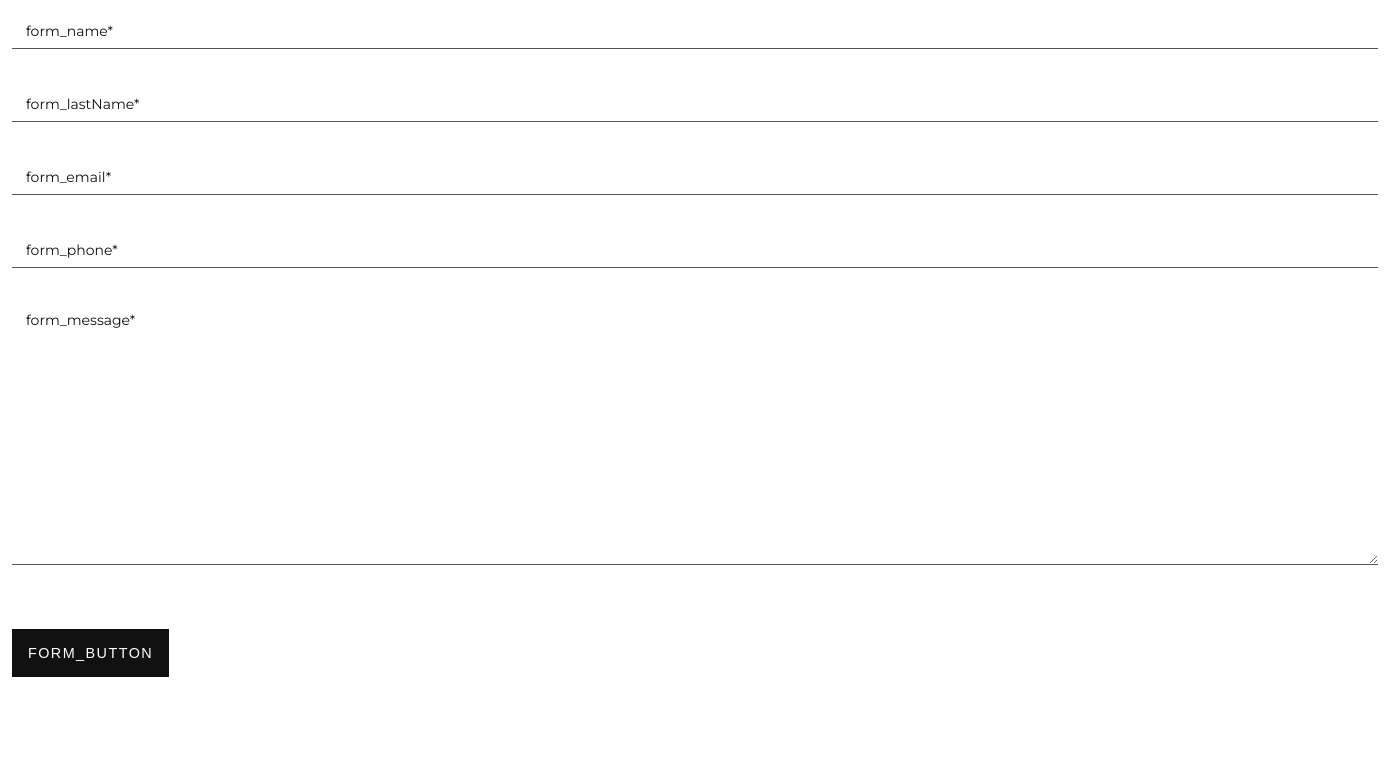
Test: ContactForm › shows error if API returns success false
Type "John" into the field labelled "form_name*" at (695, 30), box [12, 12, 1378, 49]
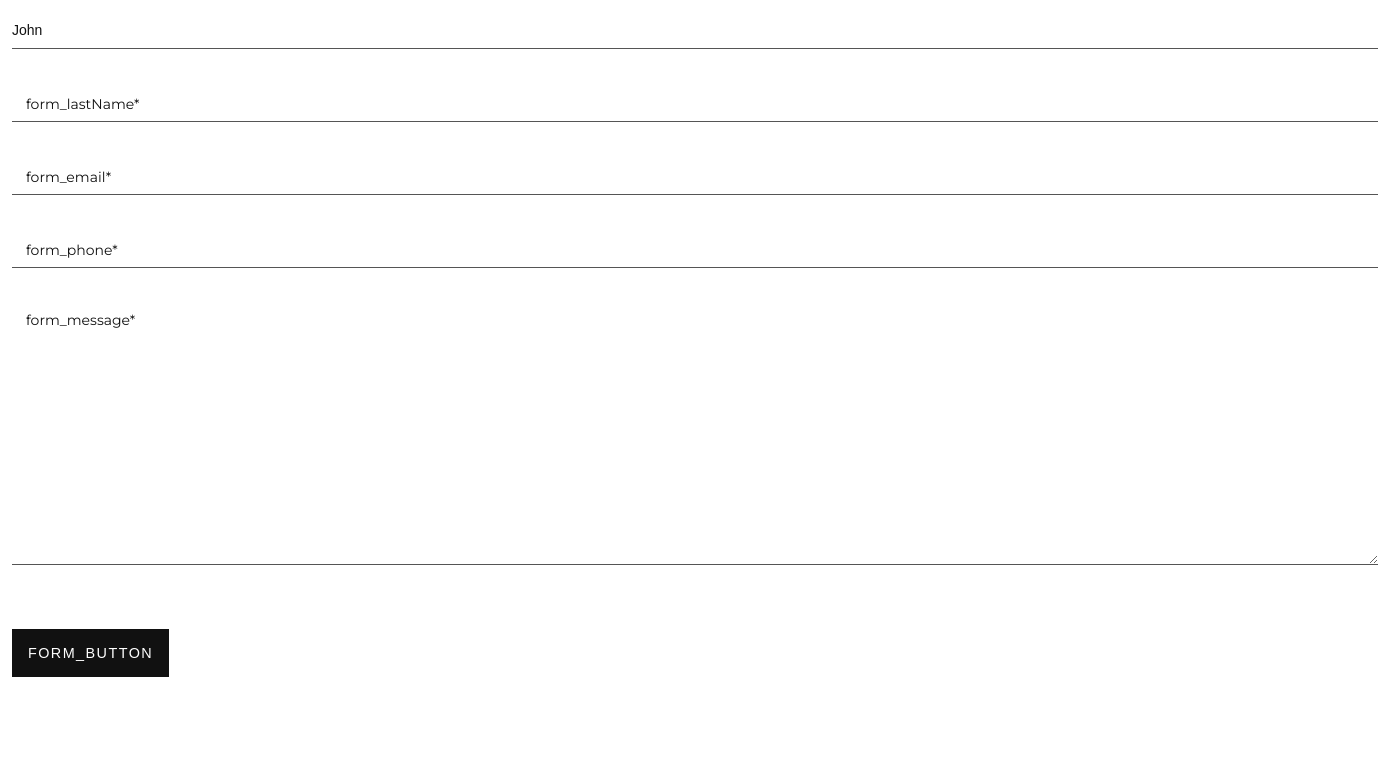
Type "Doe" into the field labelled "form_lastName*" at (695, 104), box [12, 85, 1378, 122]
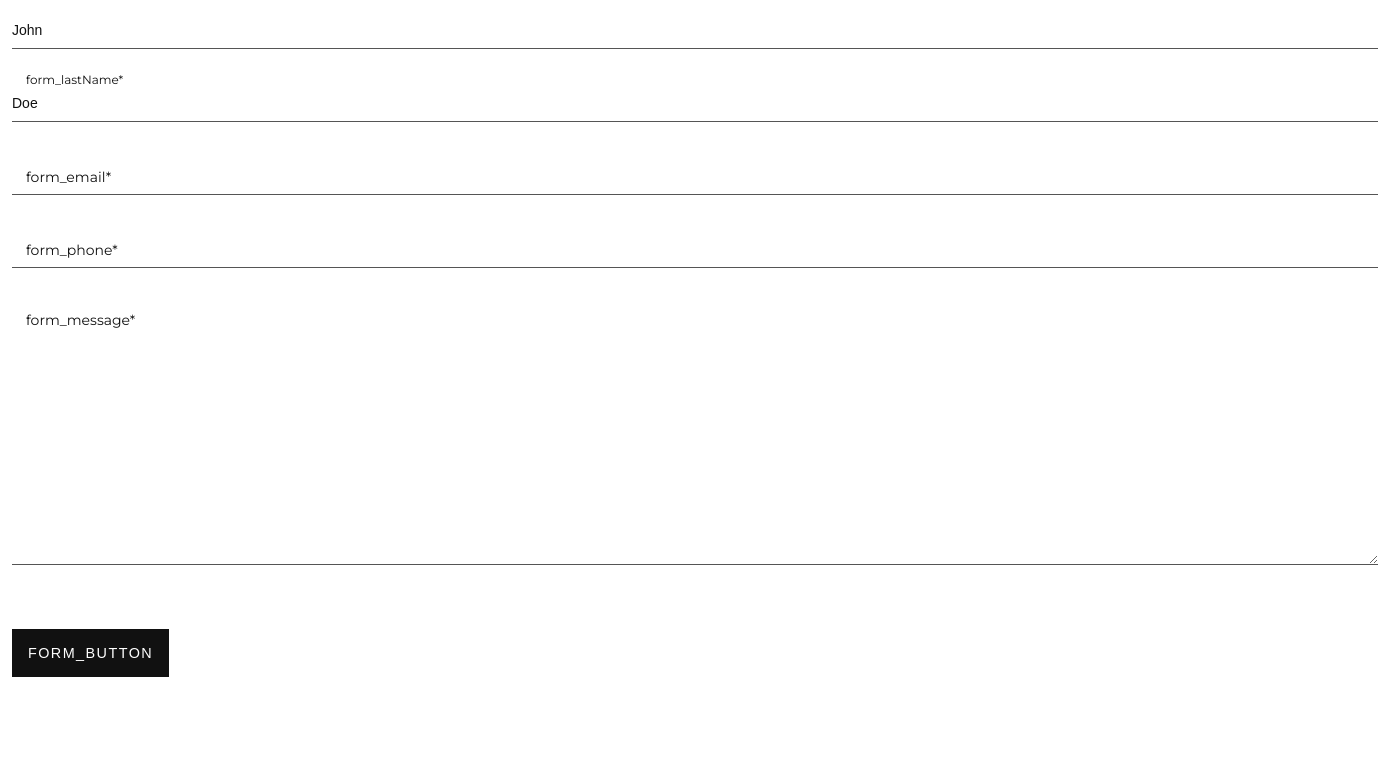
Type "john@test.com" into the field labelled "form_email*" at (695, 176), box [12, 158, 1378, 195]
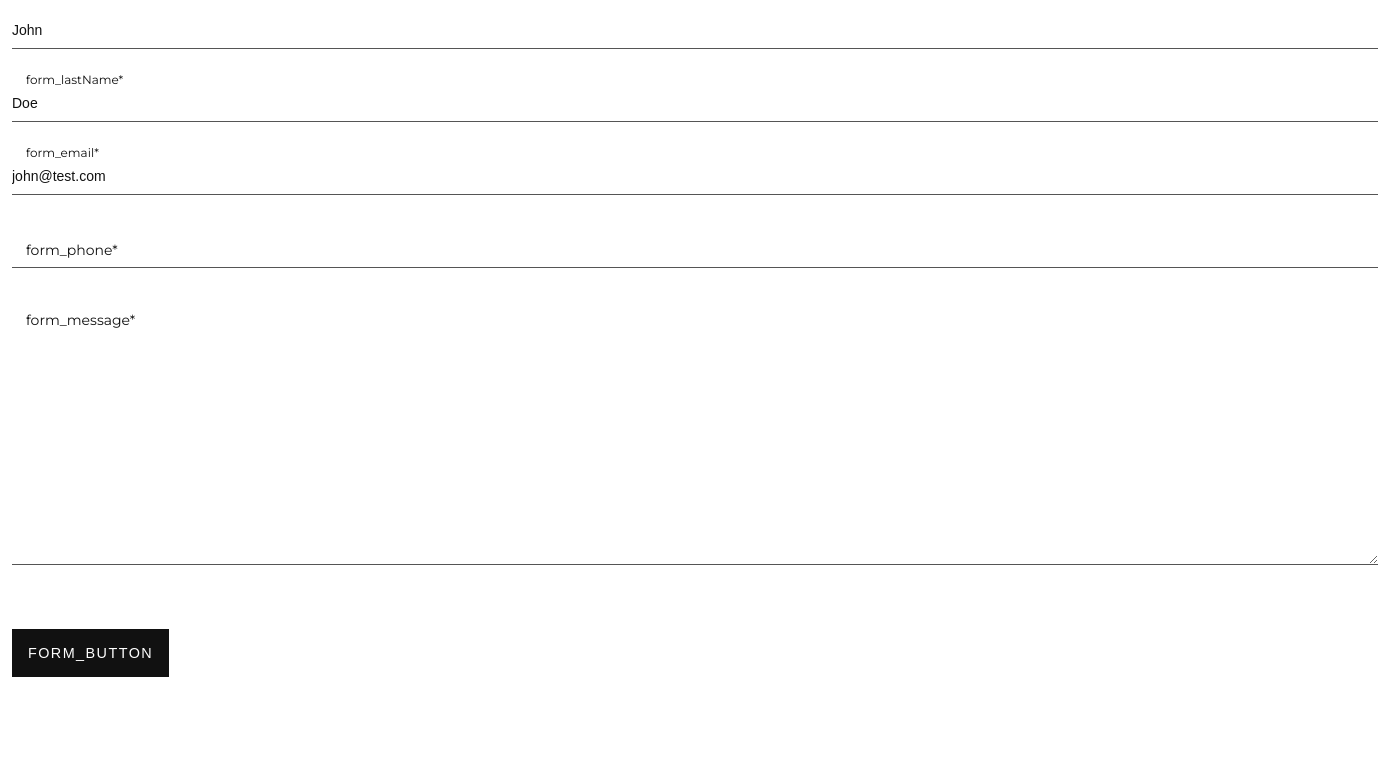
Type "123456789" into the field labelled "form_phone*" at (695, 250), box [12, 231, 1378, 268]
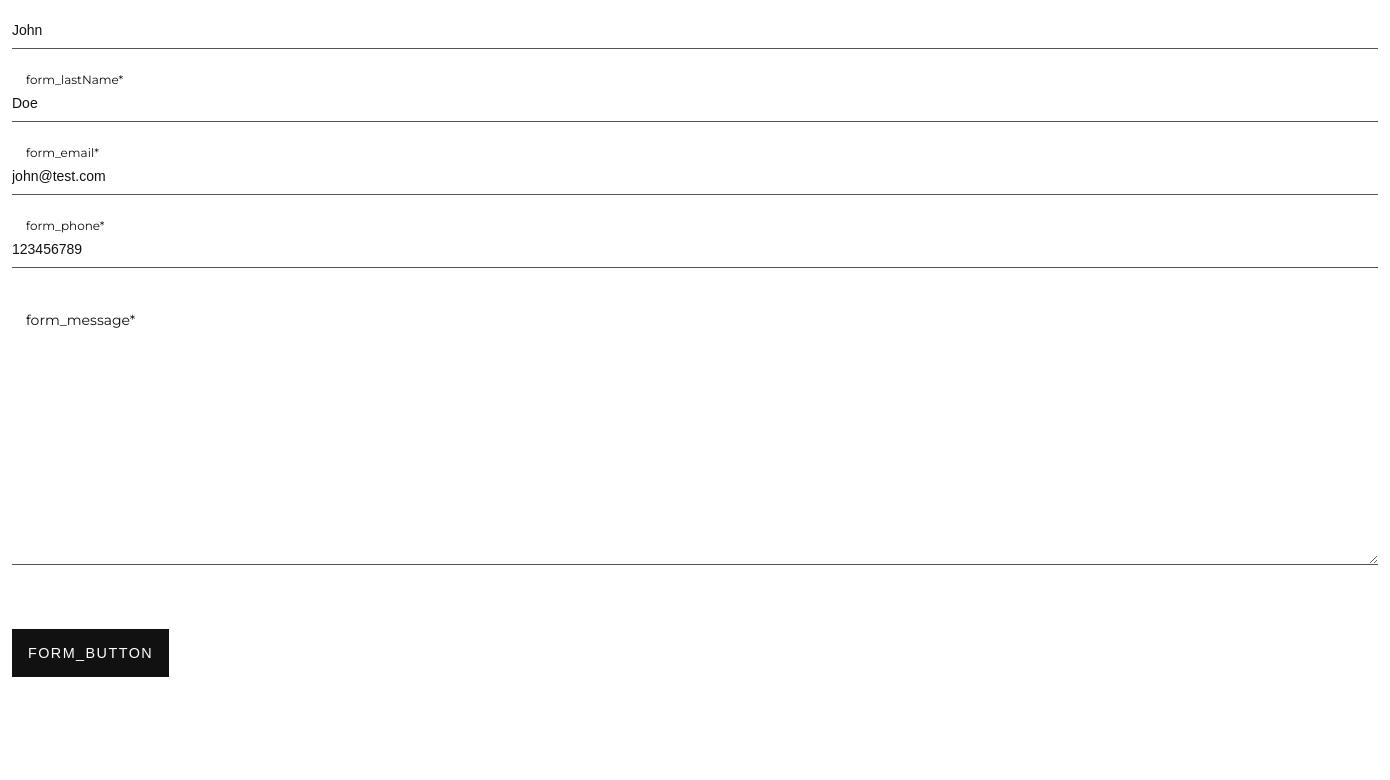
Type "Hello world" into the text box labelled "form_message*" at (695, 434), box [12, 304, 1378, 565]
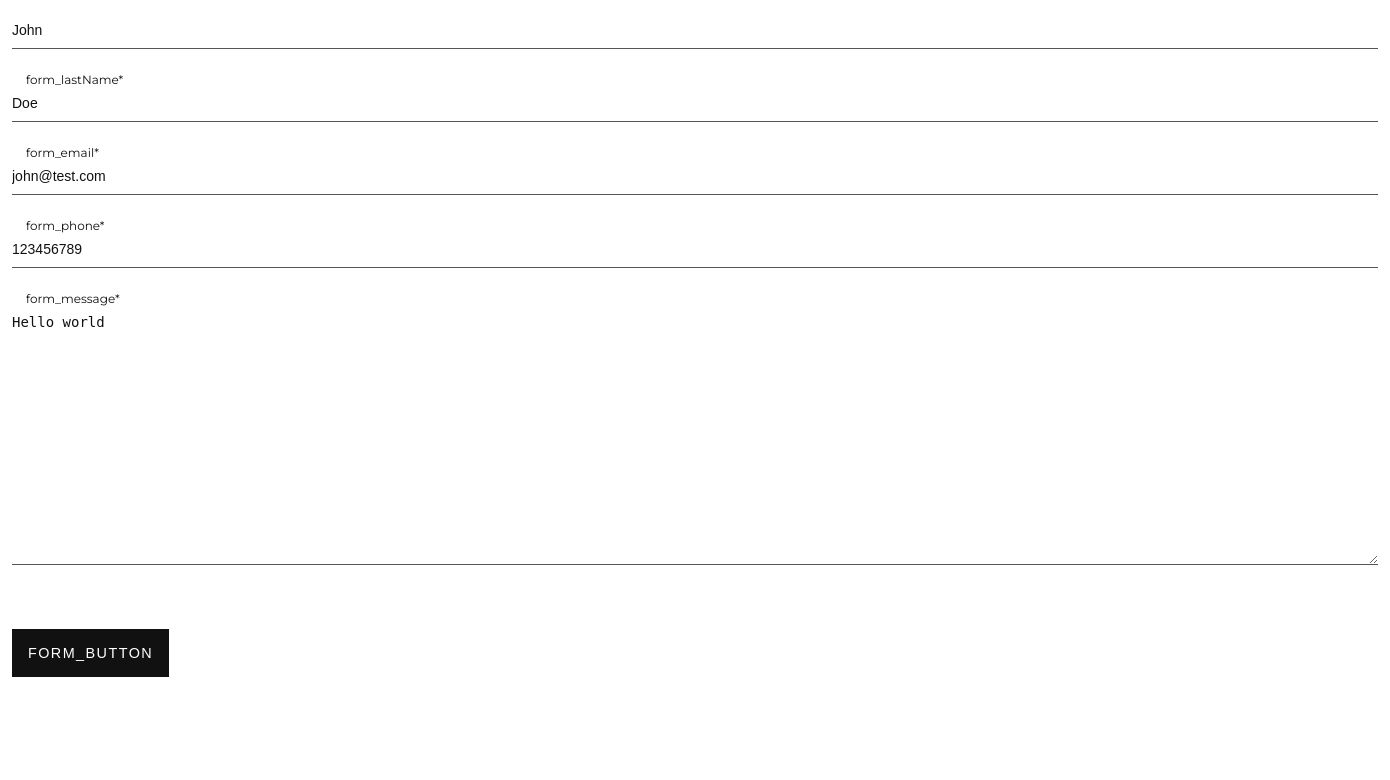
Click the button "form_button" at (91, 653), box [12, 629, 169, 677]
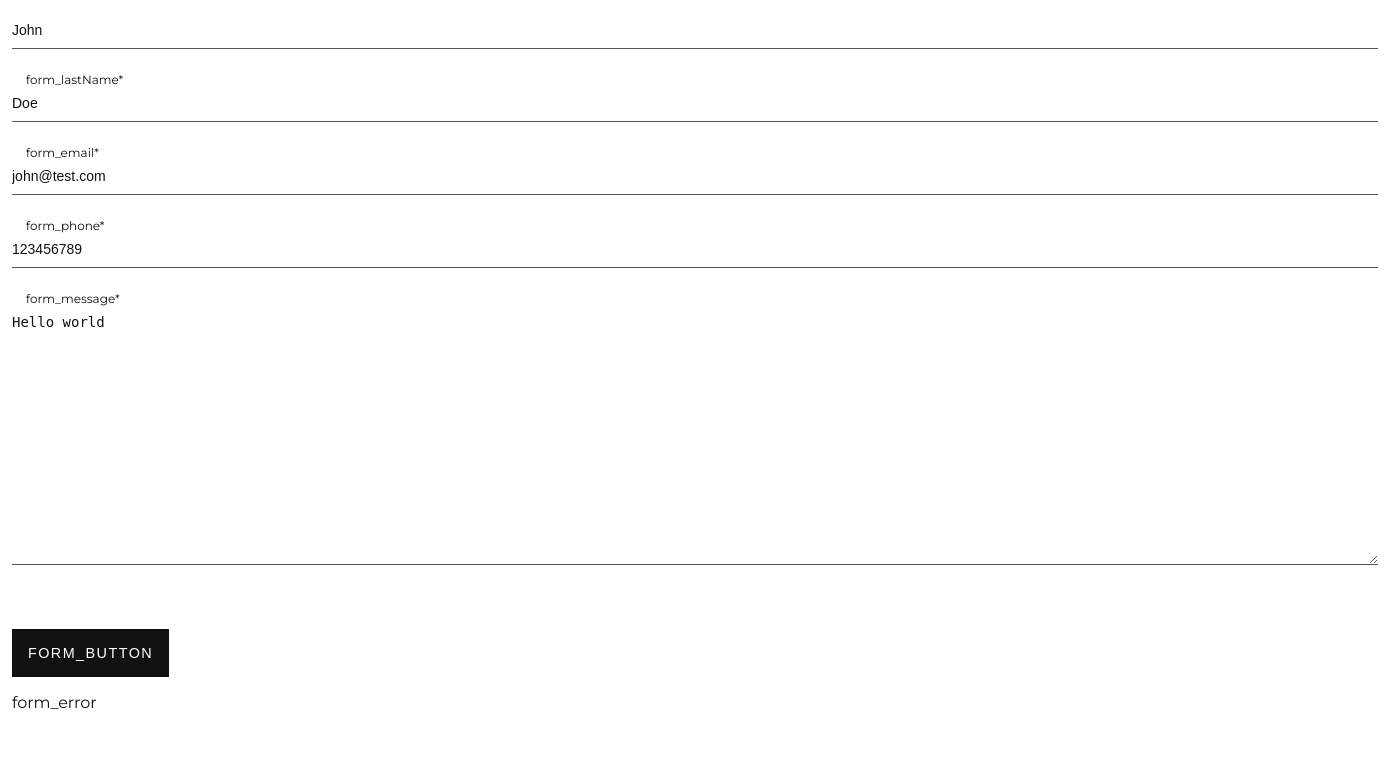
expect the message "form_error" is shown: met, box [12, 693, 97, 712]
